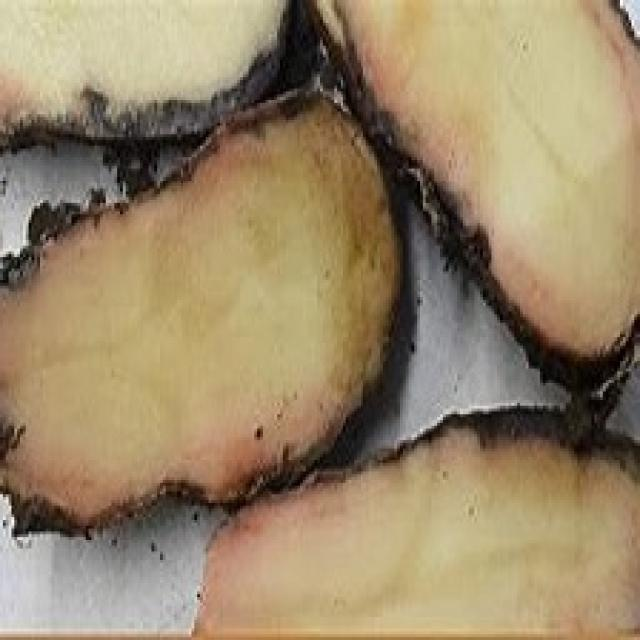pink_rot: (0, 90, 424, 538), (297, 0, 640, 400), (182, 388, 637, 640)
